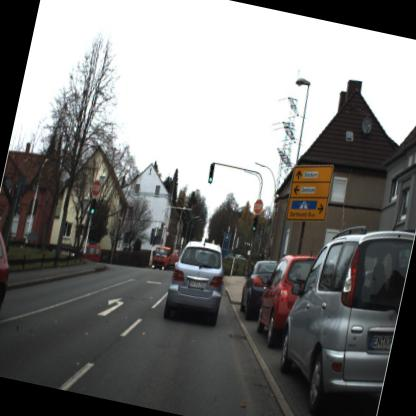other: (87, 176, 104, 198), (250, 199, 264, 216)
